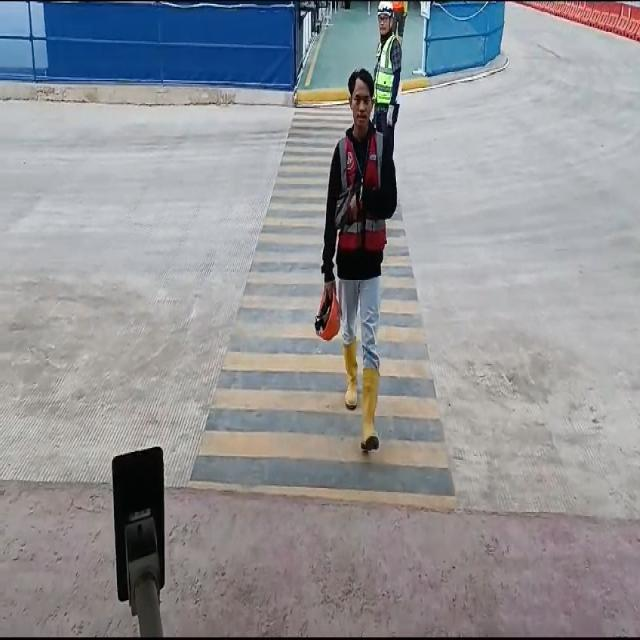gloves: (386, 105, 394, 126)
goggles: (374, 13, 394, 24)
helmet: (313, 298, 338, 344), (376, 0, 394, 15)
safety_vest: (336, 130, 385, 261), (372, 36, 398, 103), (361, 371, 381, 454), (340, 338, 356, 408)
